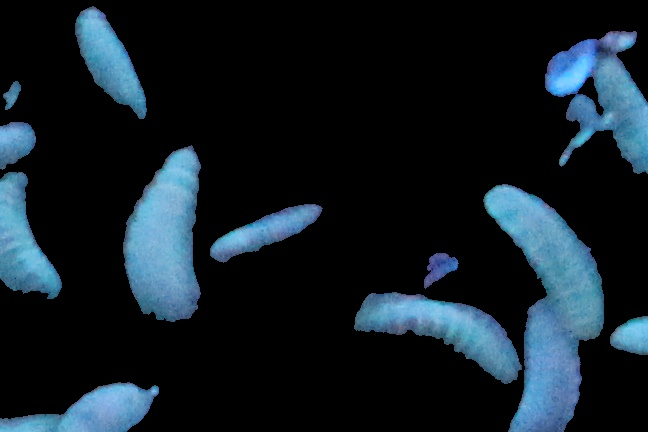larvae: (482, 185, 600, 342), (353, 279, 522, 381), (123, 148, 203, 328), (506, 296, 586, 432), (73, 1, 149, 125), (1, 170, 64, 306), (590, 49, 648, 177), (211, 202, 324, 264), (51, 377, 157, 432)
